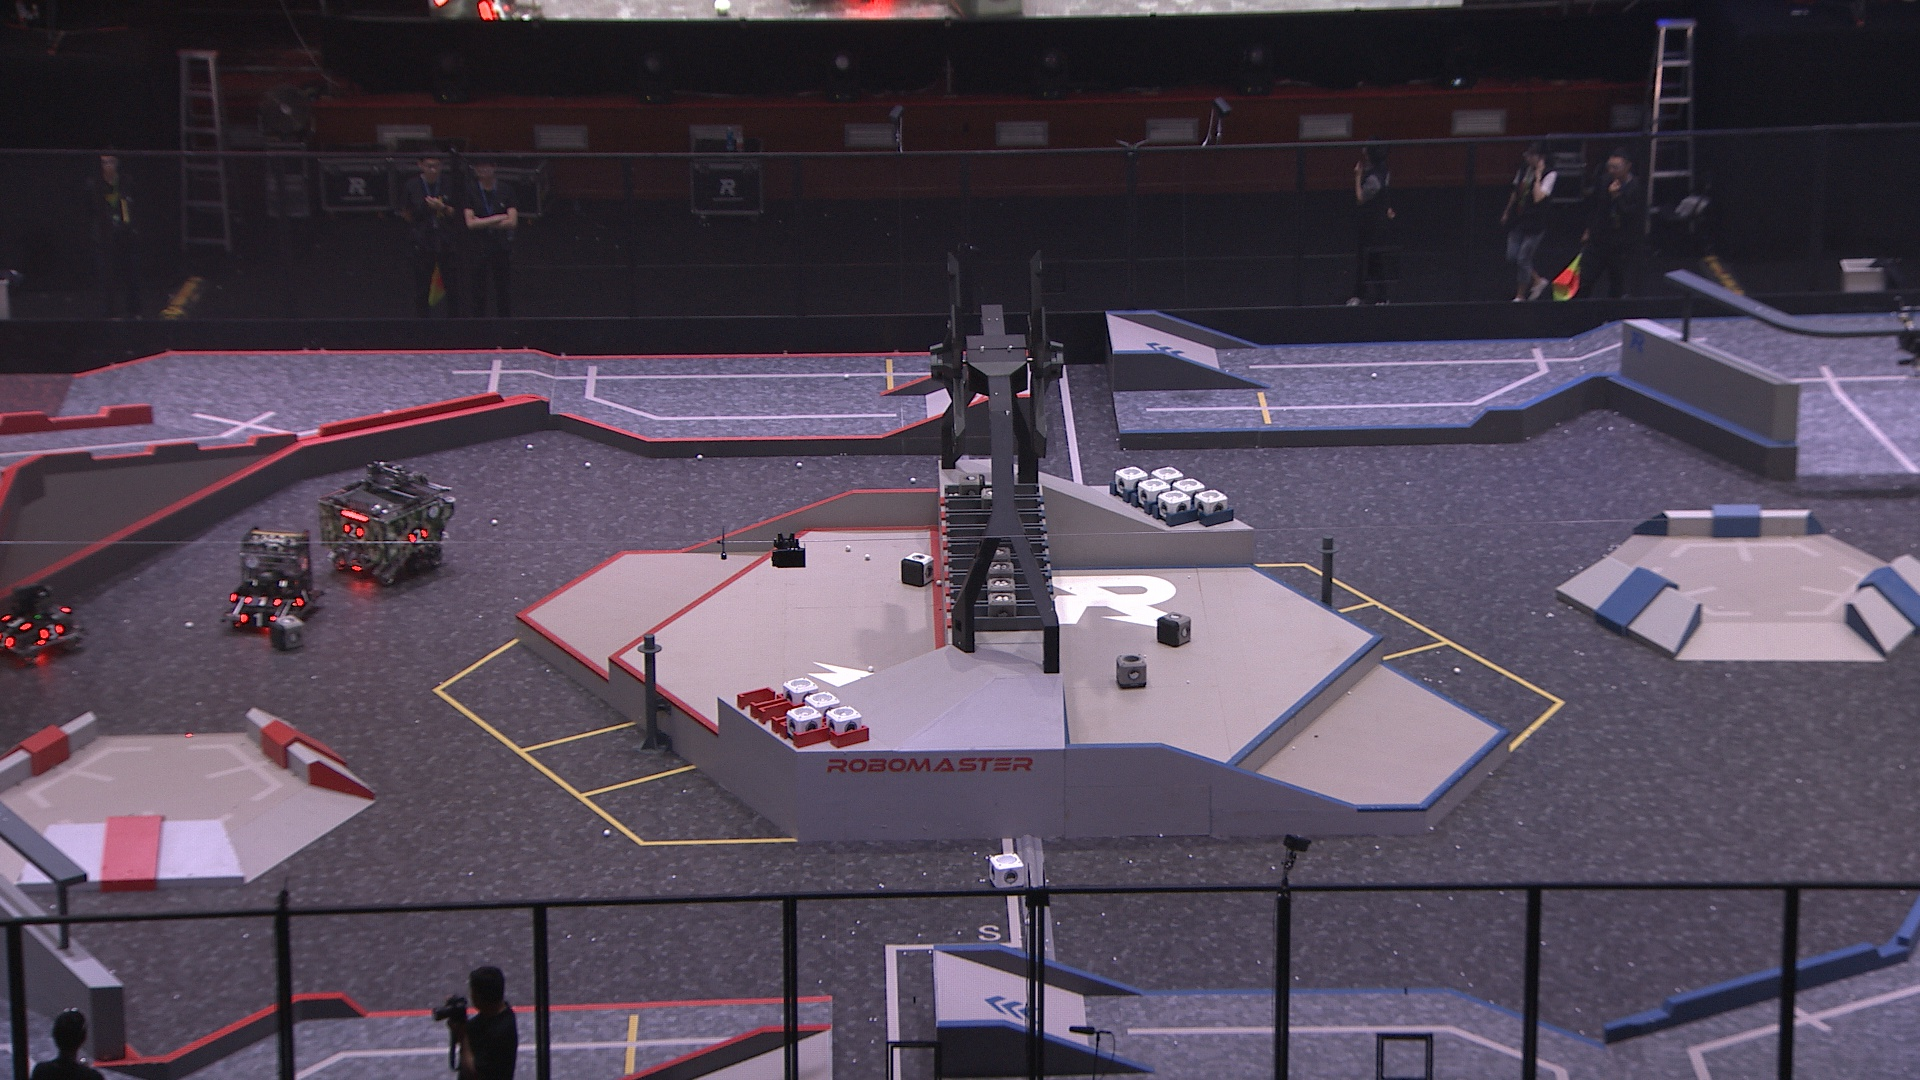armor: (237, 611, 278, 629), (1, 612, 34, 629), (294, 583, 314, 611), (404, 526, 429, 546), (38, 622, 65, 641), (243, 593, 281, 605), (342, 522, 367, 538)
car: (316, 460, 458, 589), (222, 524, 323, 636)
watcher: (1892, 294, 1920, 378)
